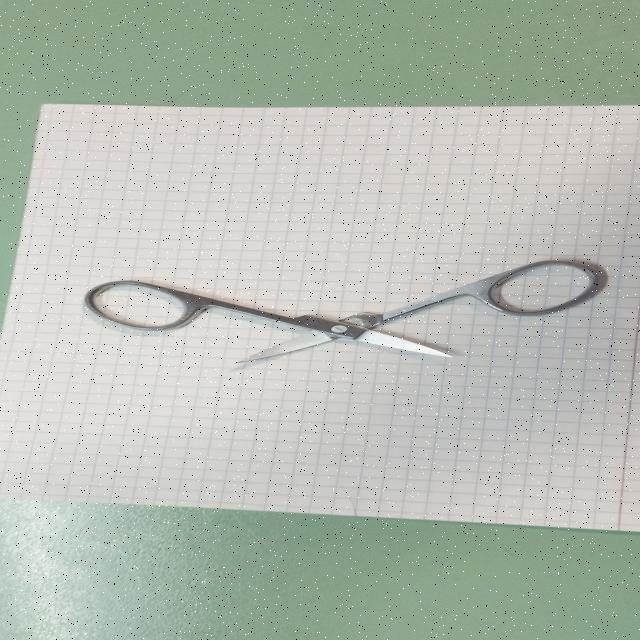scissors: (78, 252, 616, 366)
